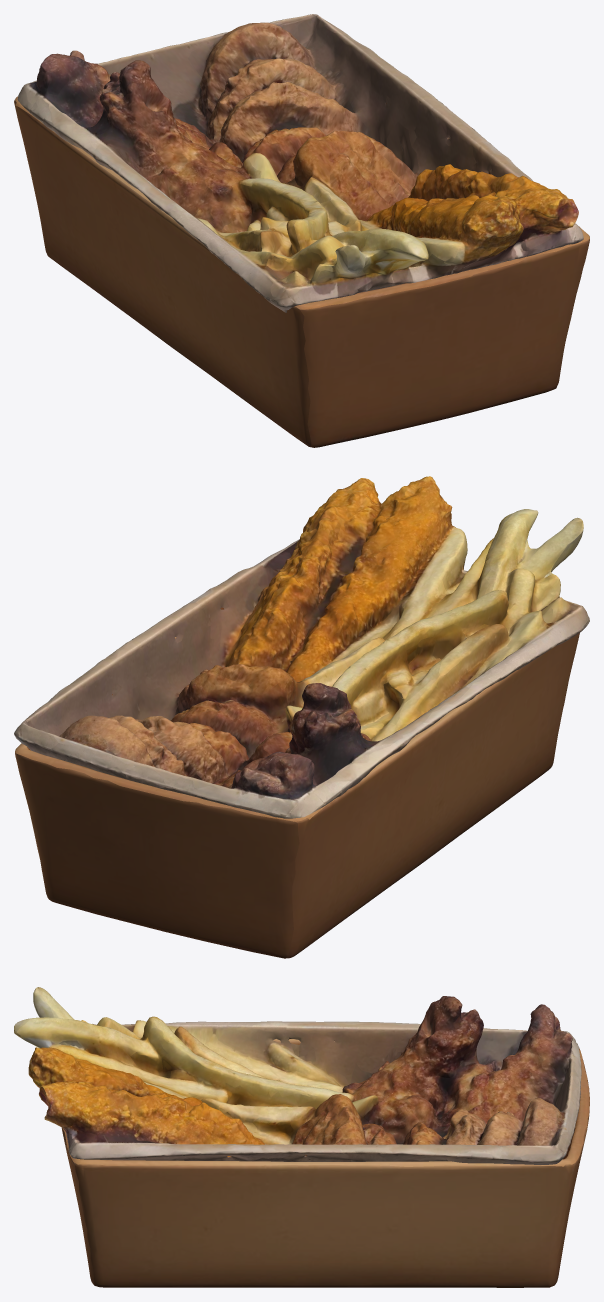
Rendered from finger.glb.
3 renders of one model, top to bottom at view 1: azimuth 30°, elevation 25°; view 2: azimuth 150°, elevation 25°; view 3: azimuth 270°, elevation 25°, orthographic. The views are drawn at different scales.
Visible parts, largest first — view 1: /Root/Scenes/Scene/Object_37/Object_42/Submesh_0, /Root/Scenes/Scene/Object_37/Object_38/Object_39/Submesh_0; view 2: /Root/Scenes/Scene/Object_37/Object_42/Submesh_0, /Root/Scenes/Scene/Object_37/Object_38/Object_39/Submesh_0; view 3: /Root/Scenes/Scene/Object_37/Object_42/Submesh_0, /Root/Scenes/Scene/Object_37/Object_38/Object_39/Submesh_0.
Part boxes in pixels (x1,y1,x2,y2): /Root/Scenes/Scene/Object_37/Object_42/Submesh_0: [17, 14, 583, 312]; /Root/Scenes/Scene/Object_37/Object_38/Object_39/Submesh_0: [14, 96, 589, 447]; /Root/Scenes/Scene/Object_37/Object_42/Submesh_0: [14, 476, 589, 818]; /Root/Scenes/Scene/Object_37/Object_38/Object_39/Submesh_0: [15, 607, 579, 958]; /Root/Scenes/Scene/Object_37/Object_42/Submesh_0: [14, 987, 581, 1164]; /Root/Scenes/Scene/Object_37/Object_38/Object_39/Submesh_0: [61, 1039, 589, 1287].
Bounding box in the file's own units: 0.1228 × 0.0883 × 0.2195.
2 materials, 2 textured.
